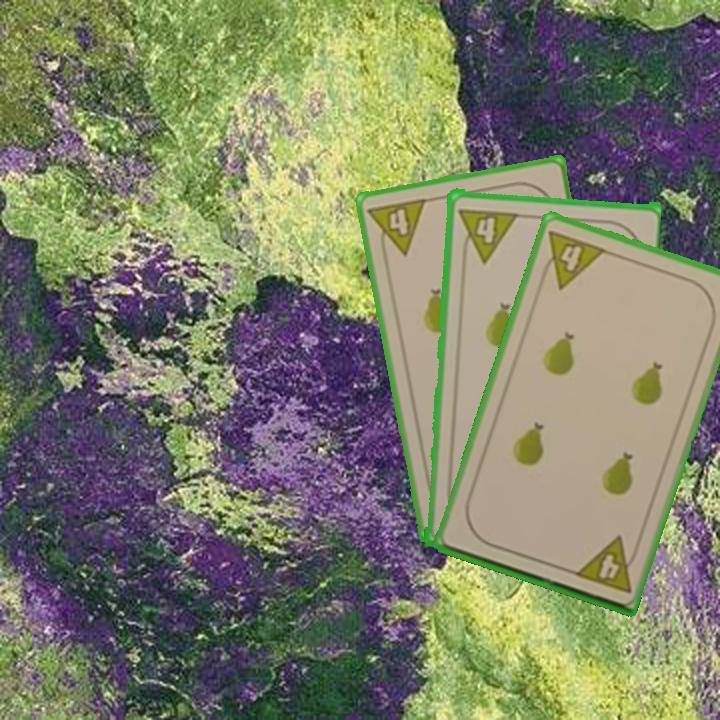4p: (535, 226, 609, 292), (570, 533, 642, 596), (364, 194, 429, 262), (454, 204, 519, 264)
